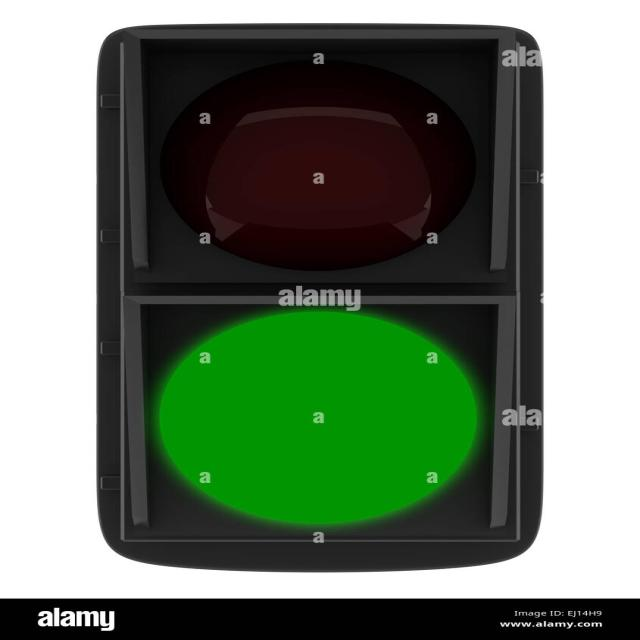green: (175, 306, 493, 519)
